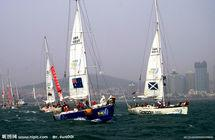fanchuan: (124, 1, 203, 114), (54, 1, 119, 125), (32, 33, 62, 116)
